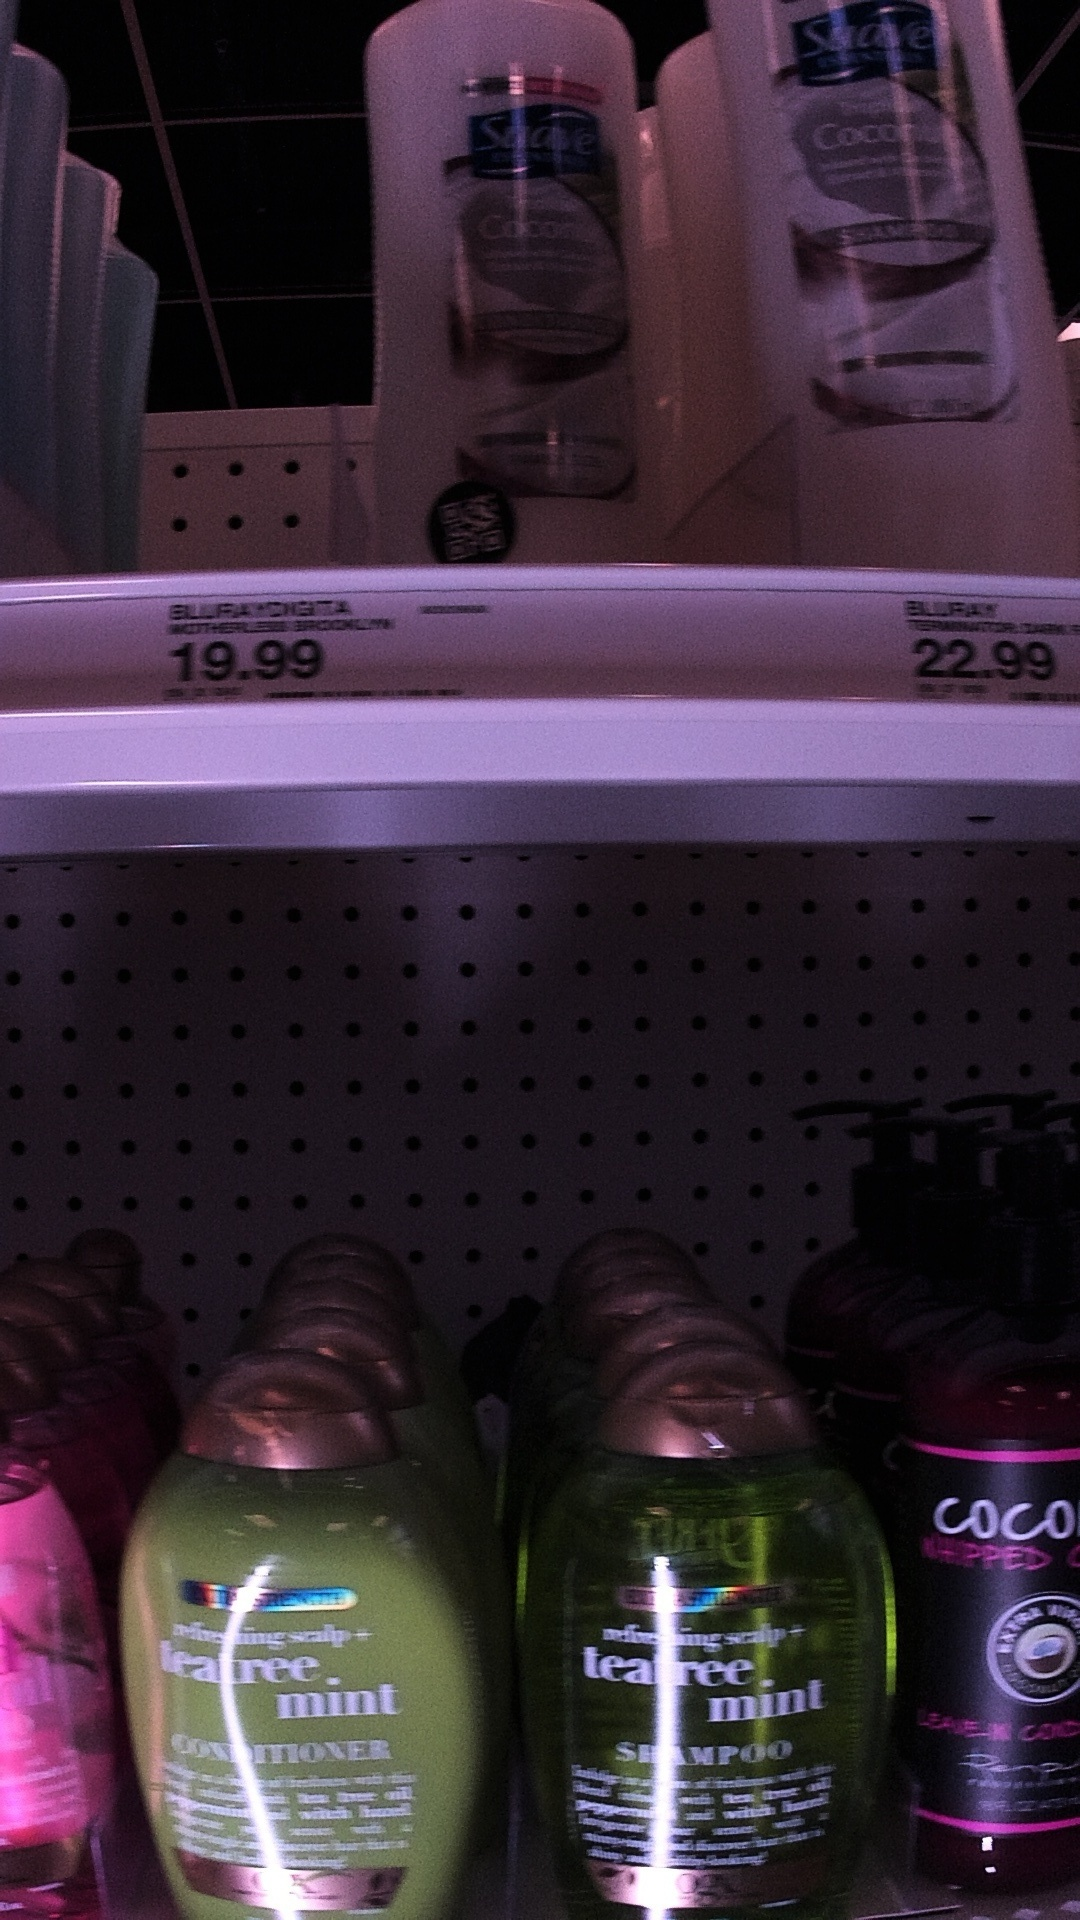ptag: (153, 591, 487, 700), (876, 584, 1080, 713)
